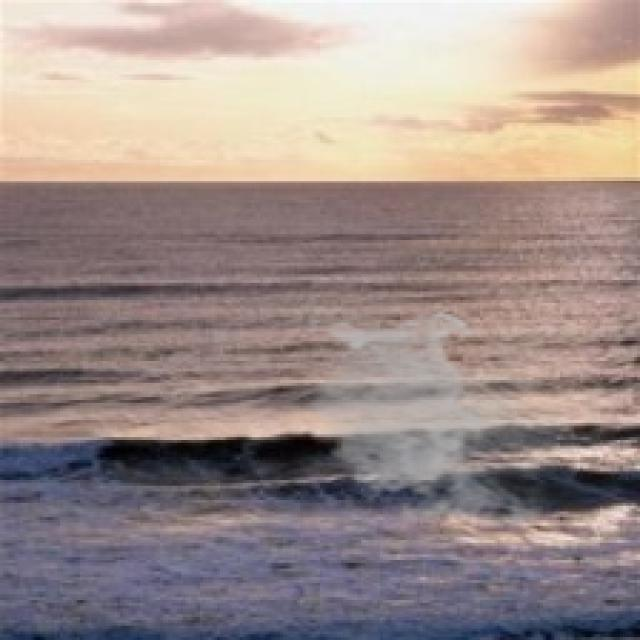smoke: (297, 306, 574, 534)
